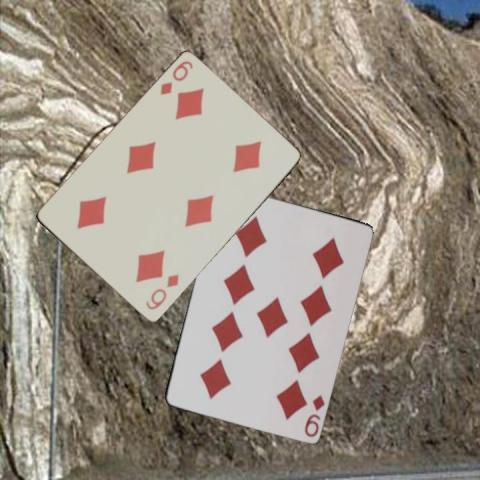6d: (142, 271, 181, 312), (156, 58, 194, 97)
9d: (301, 391, 326, 438)
